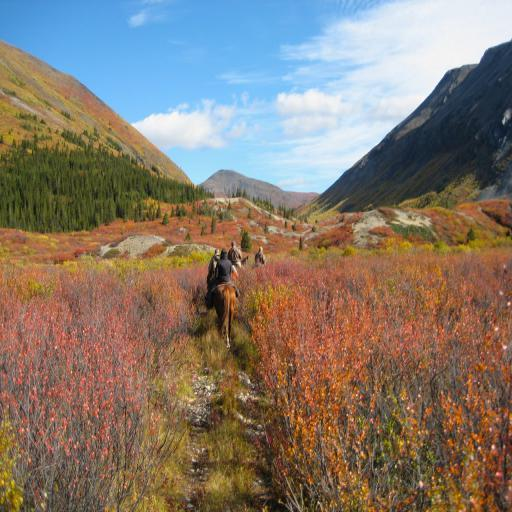horse: (212, 282, 236, 349)
